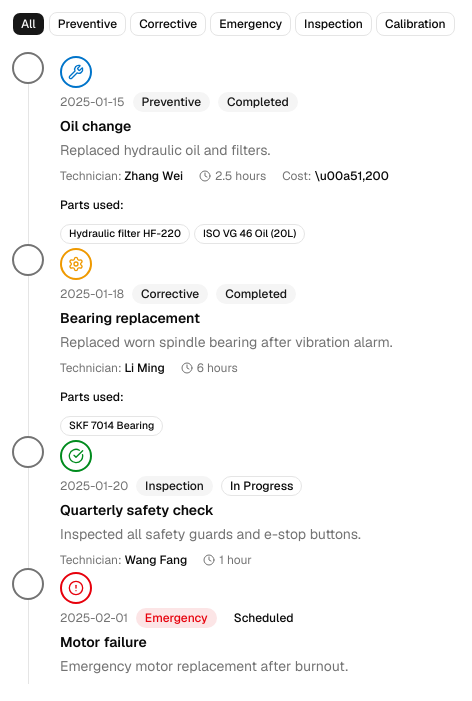
Test: MaintenanceLog › filters entries by type when filter tab is clicked
Click the button "Emergency": click(251, 24) top-left (210, 12), bottom-right (291, 36)
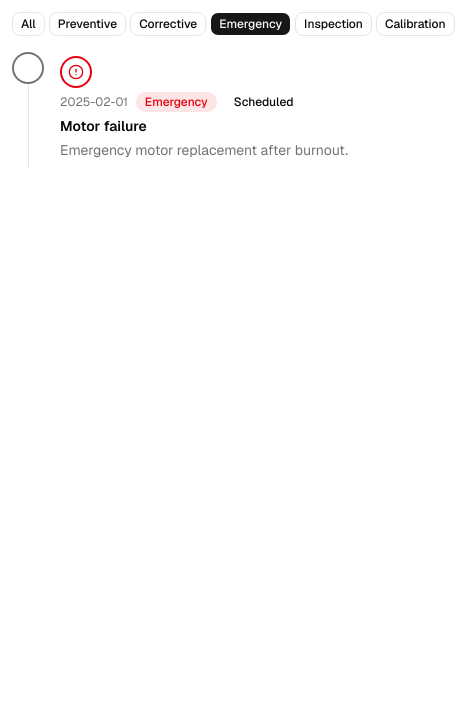
Expected: the heading "Motor failure" is shown, top-left (60, 117), bottom-right (147, 135)
Now the heading "Oil change" is gone
Now the heading "Bearing replacement" is gone
